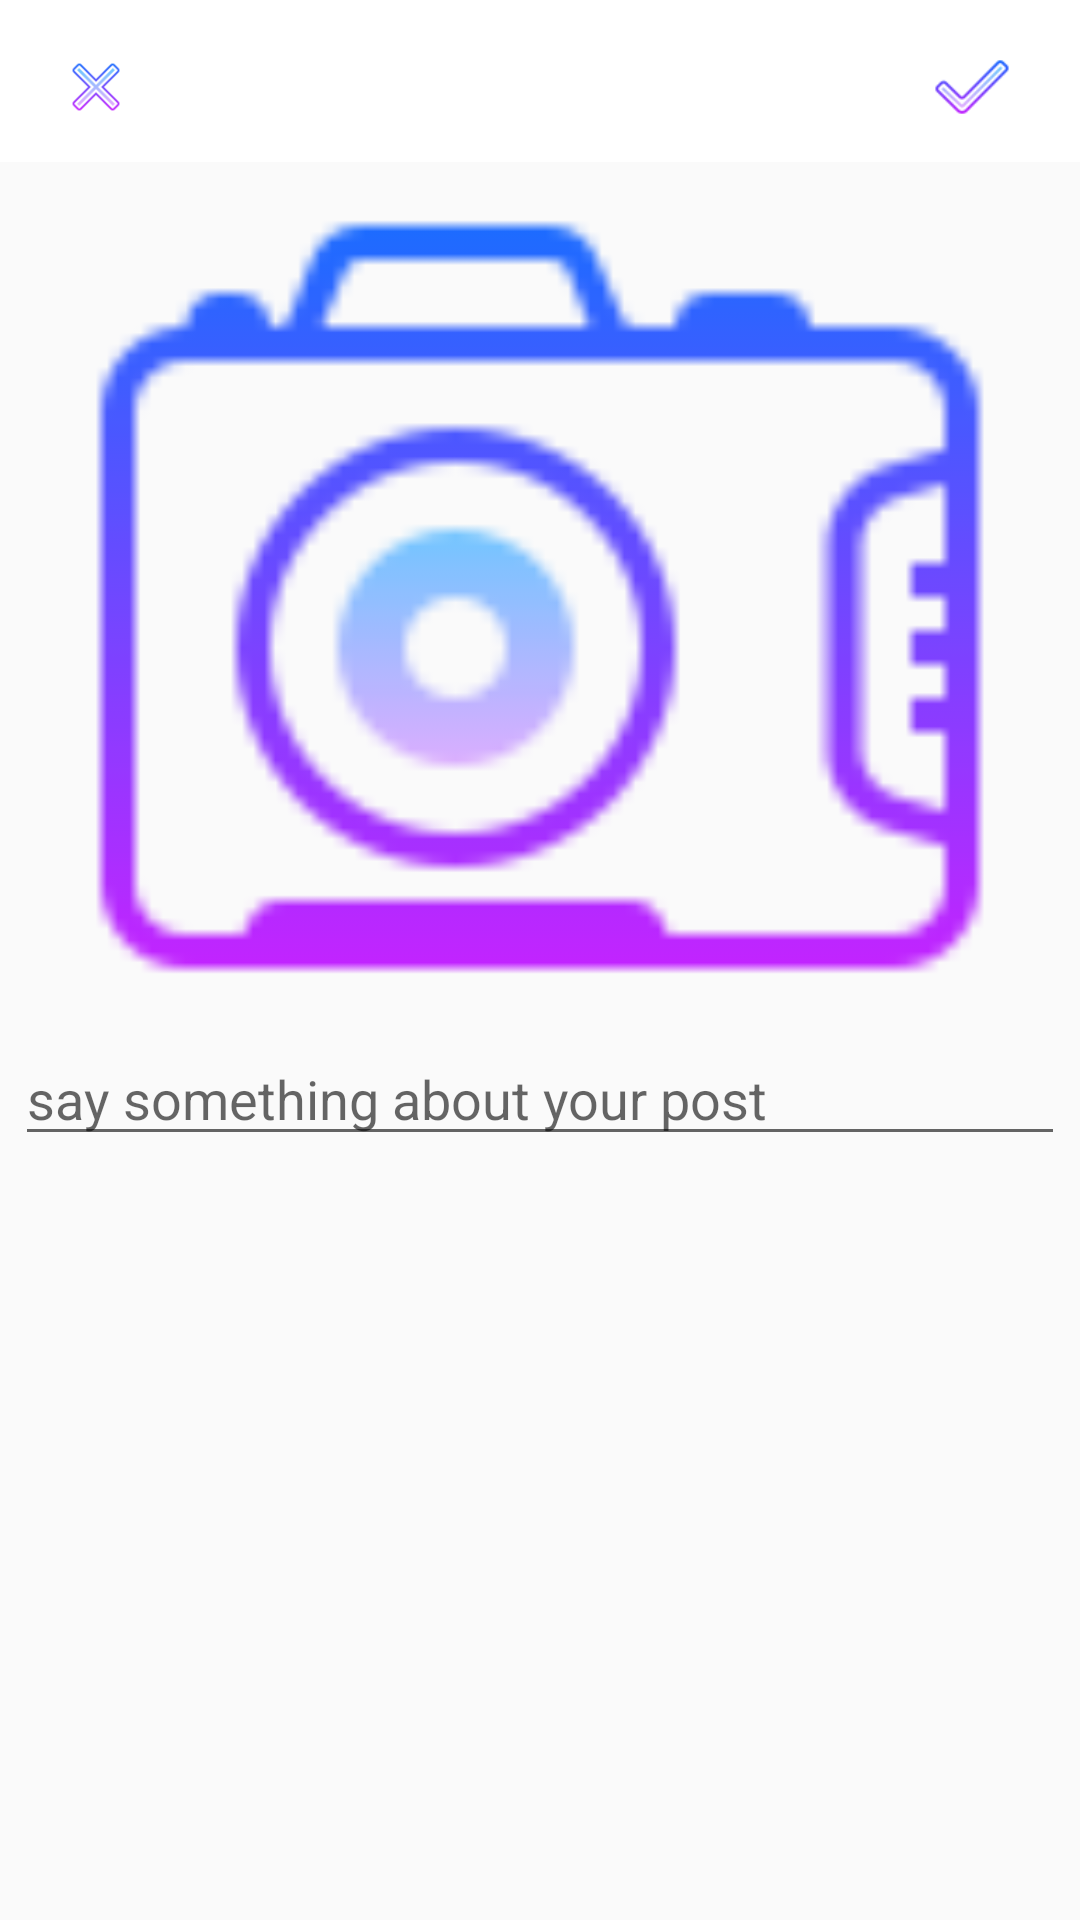

Named icons in this screenshot (1080px×1920px) and their centers, (x,y):
close: (96,87)
save edited info: (972,87)
